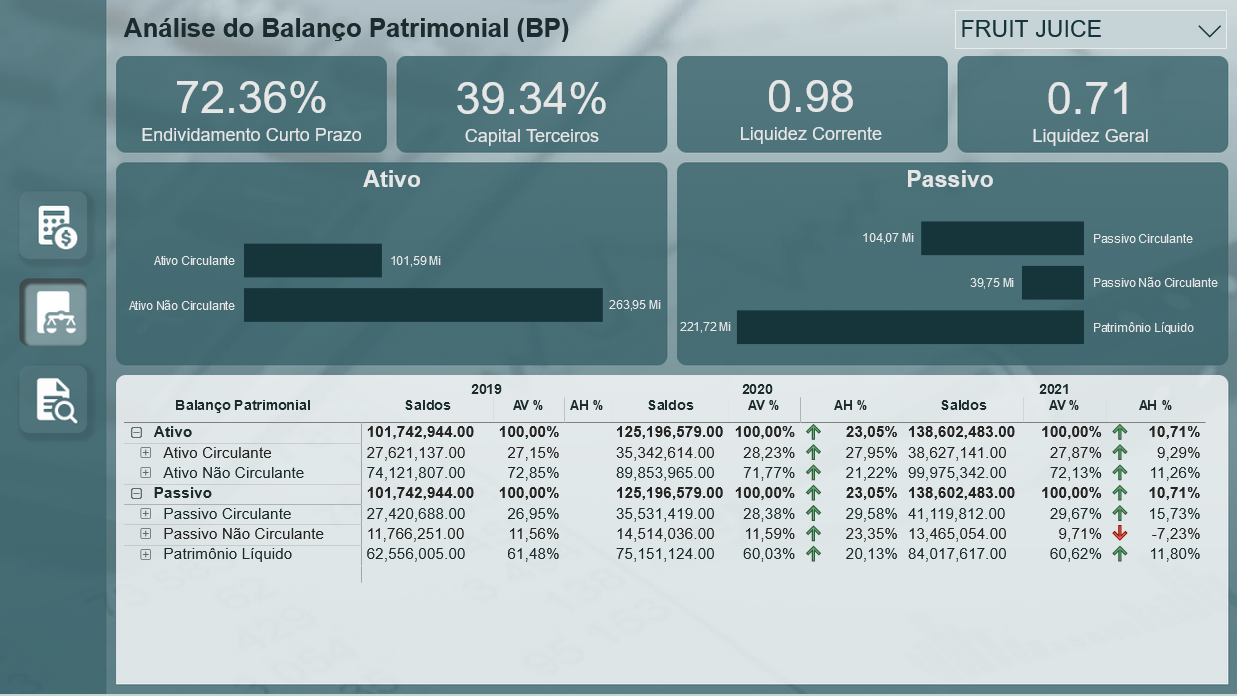

The page's visual inventory and layout, read from the dashboard file:
{"tool":"powerbi","page":{"name":"BP","canvas":[1280,720],"ordinal":1},"visuals":[{"type":"pivotTable","fields":{"Rows":["dPlanodecontas.Grupo","dPlanodecontas.Subgrupo","dPlanodecontas.categoria","dPlanodecontas.Descricao_conta"],"Columns":["dCalendario.Ano"],"Values":["BP.Medida","BP.AV BP","BP.AH BP"]},"box":[123.3,389.3,1144.2,320],"z":0},{"type":"clusteredBarChart","title":"Ativo","fields":{"Y":["Medidas.Ativo"],"Category":["dPlanodecontas.Subgrupo"]},"box":[123.3,170.4,565.2,210.6],"z":1000},{"type":"clusteredBarChart","title":"Passivo","fields":{"Category":["dPlanodecontas.Subgrupo"],"Y":["Medidas.Passivo"]},"box":[698.2,170.4,569.4,210.6],"z":2000},{"type":"card","fields":{"Values":["Medidas.Composição do Endividamento"]},"box":[123.3,58.2,274.3,99.7],"z":3000},{"type":"card","fields":{"Values":["Medidas.Participação Capital Terceiros"]},"box":[411.4,58.2,277.1,102.5],"z":4000},{"type":"card","fields":{"Values":["Medidas.LG"]},"box":[989.1,58.2,278.4,102.5],"z":5000},{"type":"card","fields":{"Values":["Medidas.LC"]},"box":[698.2,55.4,281.2,102.5],"z":6000},{"type":"textbox","box":[123.3,8.3,576.3,47.1],"z":7000},{"type":"actionButton","box":[12.5,192.6,87.3,83.1],"z":8000},{"type":"actionButton","box":[12.5,371.3,87.3,79],"z":9000},{"type":"slicer","fields":{"Values":["dEmpresas.Nome_empresa"]},"box":[978,0,302,51.3],"z":10000},{"type":"actionButton","box":[33.2,599.8,47.1,36],"z":11000},{"type":"actionButton","box":[33.2,645.5,47.1,40.2],"z":12000}]}

Visuals, with their boxes in screenshot pixels (x1, y1, x2, y2), scaled from the page's 1280x720 canvas onto the 1237x696 screenshot:
pivotTable - dPlanodecontas.Grupo x dPlanodecontas.Subgrupo: Rect(119, 376, 1225, 686)
"Ativo" clusteredBarChart: Rect(119, 165, 665, 368)
"Passivo" clusteredBarChart: Rect(675, 165, 1225, 368)
card - Medidas.Composição do Endividamento: Rect(119, 56, 384, 153)
card - Medidas.Participação Capital Terceiros: Rect(398, 56, 665, 155)
card - Medidas.LG: Rect(956, 56, 1225, 155)
card - Medidas.LC: Rect(675, 54, 946, 153)
textbox: Rect(119, 8, 676, 54)
actionButton: Rect(12, 186, 96, 267)
actionButton: Rect(12, 359, 96, 435)
slicer - dEmpresas.Nome_empresa: Rect(945, 0, 1236, 50)
actionButton: Rect(32, 580, 78, 615)
actionButton: Rect(32, 624, 78, 663)
